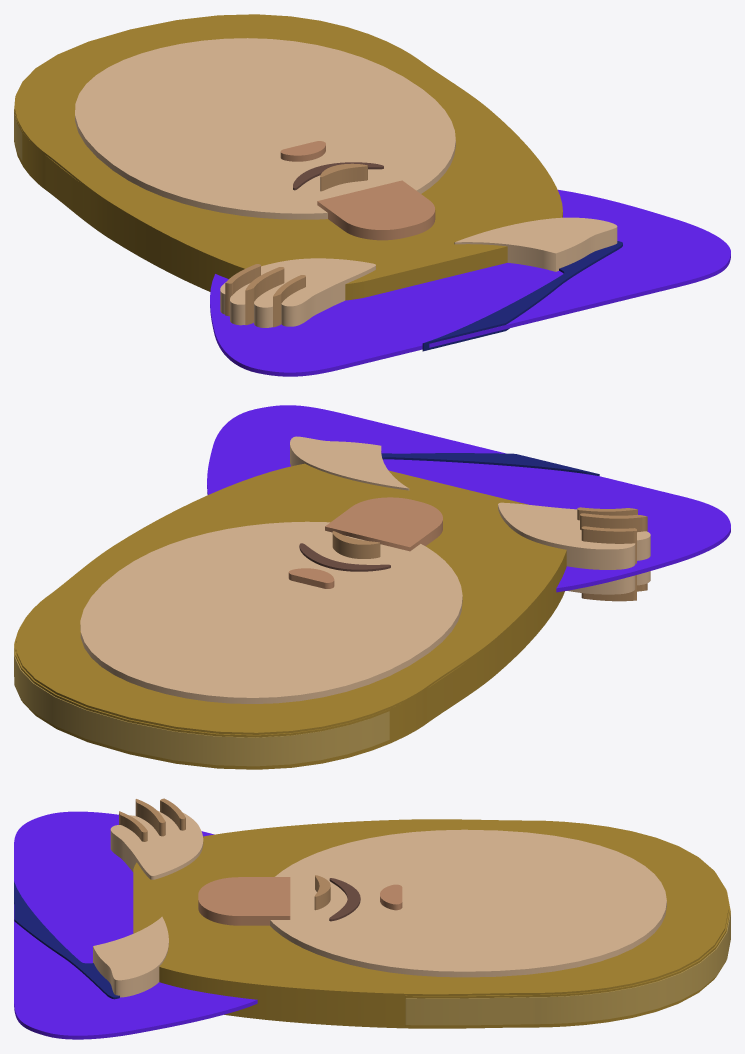
File: emoji_u1f64e_1f3fc_200d_2640.glb
3 views of the same model, one above another, from view 1: azimuth 30°, elevation 25°; view 2: azimuth 150°, elevation 25°; view 3: azimuth 270°, elevation 25° (orthographic). The views are drawn at different scales.
Parts seen in each view (by area): view 1: emoji_u1f64e_1f3fc_200d_2640; view 2: emoji_u1f64e_1f3fc_200d_2640; view 3: emoji_u1f64e_1f3fc_200d_2640.
Part boxes in pixels (left/top/right/bottom): emoji_u1f64e_1f3fc_200d_2640: left=14, top=14, right=730, bottom=376; emoji_u1f64e_1f3fc_200d_2640: left=14, top=405, right=730, bottom=769; emoji_u1f64e_1f3fc_200d_2640: left=14, top=798, right=730, bottom=1039.
Bounding box in the file's own units: 0.025 × 0.0038 × 0.0338.
